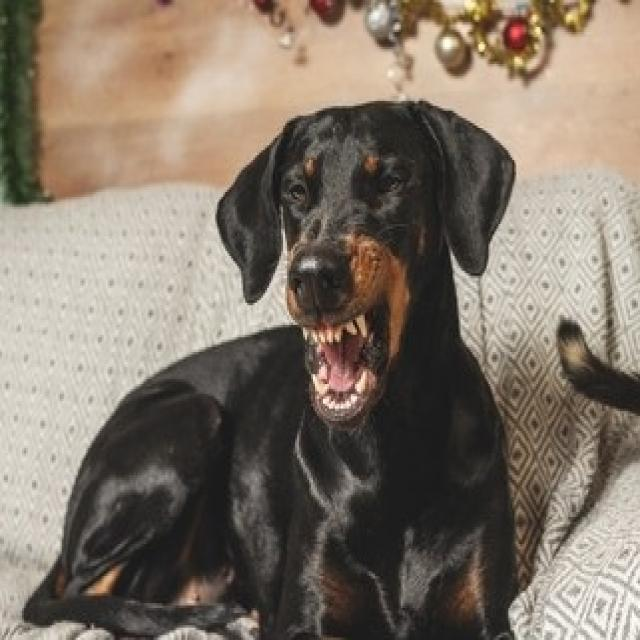angry: (205, 26, 522, 475)
